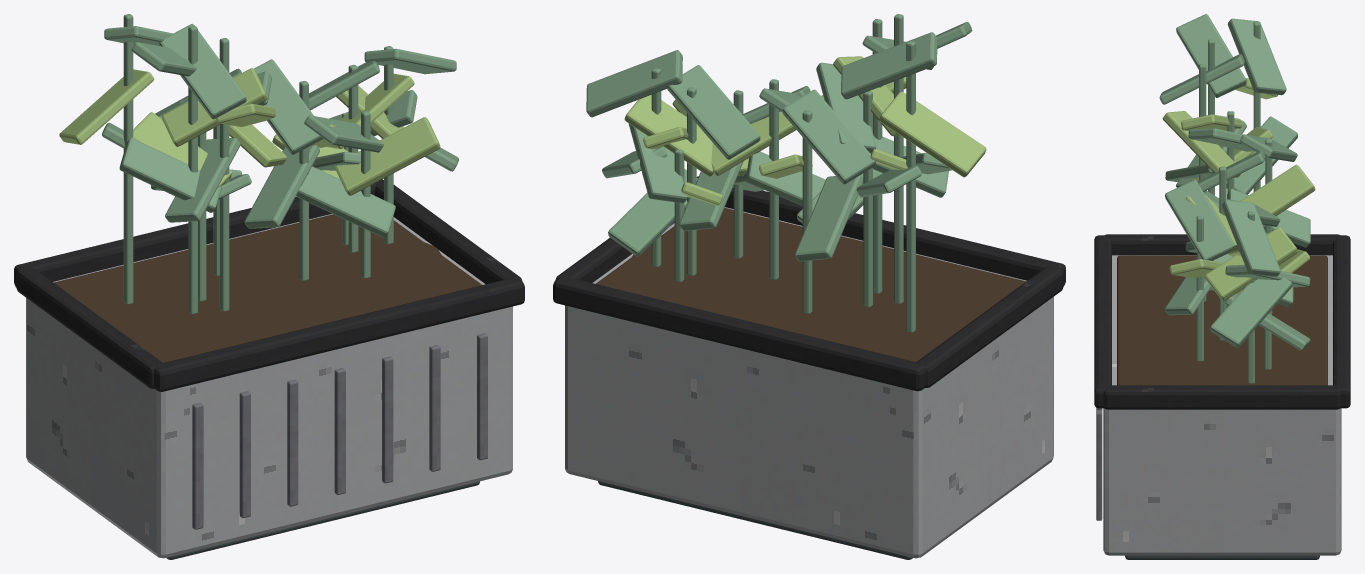
Rendered from lbd_planter_v2.glb.
The picture shows the model from 3 angles, left to right: view 1: azimuth 30°, elevation 25°; view 2: azimuth 150°, elevation 25°; view 3: azimuth 270°, elevation 25°; orthographic projection. The views are drawn at different scales.
Parts seen in each view (by area): view 1: planter_v2__pot_006, planter_v2__soil_042, planter_v2__rim_030, planter_v2__rim_033, planter_v2__rim_036, planter_v2__rim_039, planter_v2__folded leaf_160, planter_v2__folded leaf_078, planter_v2__folded leaf_157, planter_v2__folded leaf_096, planter_v2__folded leaf_133, planter_v2__folded leaf_139 (+31 smaller); view 2: planter_v2__pot_006, planter_v2__soil_042, planter_v2__rim_033, planter_v2__rim_030, planter_v2__rim_036, planter_v2__folded leaf_115, planter_v2__folded leaf_054, planter_v2__folded leaf_063, planter_v2__folded leaf_127, planter_v2__folded leaf_066, planter_v2__folded leaf_048, planter_v2__folded leaf_124 (+24 smaller); view 3: planter_v2__pot_006, planter_v2__soil_042, planter_v2__rim_039, planter_v2__rim_030, planter_v2__rim_033, planter_v2__folded leaf_121, planter_v2__folded leaf_163, planter_v2__folded leaf_127, planter_v2__folded leaf_066, planter_v2__rim_036, planter_v2__folded leaf_102, planter_v2__folded leaf_051 (+25 smaller).
Boxes of the visible parts, <box> form: planter_v2__pot_006: <box>26,213,512,558</box>; planter_v2__soil_042: <box>53,214,481,362</box>; planter_v2__rim_030: <box>154,278,524,391</box>; planter_v2__rim_033: <box>14,179,383,286</box>; planter_v2__rim_036: <box>16,267,162,388</box>; planter_v2__rim_039: <box>375,181,522,283</box>; planter_v2__folded leaf_160: <box>334,117,440,195</box>; planter_v2__folded leaf_078: <box>159,23,246,119</box>; planter_v2__folded leaf_157: <box>296,166,395,237</box>; planter_v2__folded leaf_096: <box>119,138,222,212</box>; planter_v2__folded leaf_133: <box>244,145,319,228</box>; planter_v2__folded leaf_139: <box>254,59,323,154</box>; planter_v2__pot_006: <box>565,207,1053,558</box>; planter_v2__soil_042: <box>596,207,1025,361</box>; planter_v2__rim_033: <box>553,276,925,391</box>; planter_v2__rim_030: <box>697,176,1065,285</box>; planter_v2__rim_036: <box>916,266,1063,387</box>; planter_v2__folded leaf_115: <box>667,65,760,159</box>; planter_v2__folded leaf_054: <box>782,89,875,184</box>; planter_v2__folded leaf_063: <box>879,91,986,177</box>; planter_v2__folded leaf_127: <box>586,50,682,117</box>; planter_v2__folded leaf_066: <box>841,32,937,99</box>; planter_v2__folded leaf_048: <box>795,175,863,261</box>; planter_v2__folded leaf_124: <box>624,95,713,176</box>; planter_v2__pot_006: <box>1103,255,1341,555</box>; planter_v2__soil_042: <box>1117,255,1327,385</box>; planter_v2__rim_039: <box>1103,385,1341,409</box>; planter_v2__rim_030: <box>1094,235,1111,408</box>; planter_v2__rim_033: <box>1333,235,1350,408</box>; planter_v2__folded leaf_121: <box>1210,277,1292,347</box>; planter_v2__folded leaf_163: <box>1165,180,1234,260</box>; planter_v2__folded leaf_127: <box>1222,200,1280,276</box>; planter_v2__folded leaf_066: <box>1227,18,1286,95</box>; planter_v2__rim_036: <box>1105,234,1339,255</box>; planter_v2__folded leaf_102: <box>1176,14,1246,97</box>; planter_v2__folded leaf_051: <box>1240,164,1315,215</box>.
Size of the model in its own units: 0.9885 by 1.17 by 0.645.
Materials: 7 (3 with a texture image).
